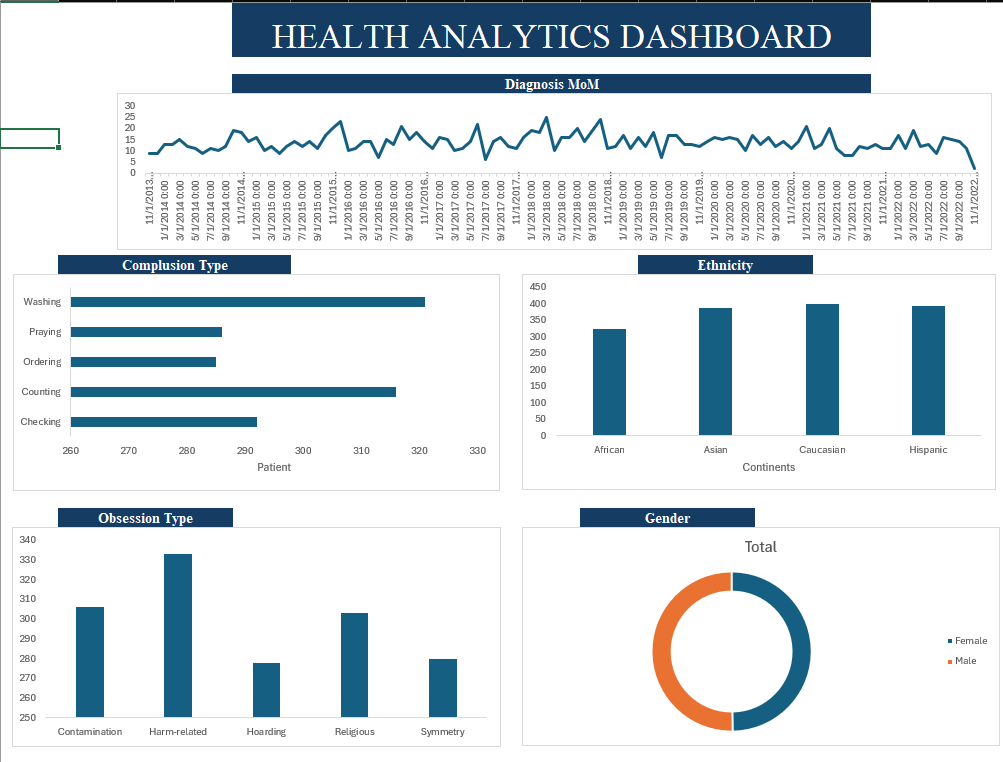

This screenshot's page, from the dashboard's own definition file:
{"tool":"powerbi","page":{"name":"Page 1","canvas":[1280,720],"ordinal":0},"visuals":[{"type":"textbox","box":[9.7,0,1270.3,51.6],"z":0},{"type":"lineChart","fields":{"Y2":["Sum(Diafnosed wit OCD.patient_count)"],"Category":["Diafnosed wit OCD.month.Variation.Date Hierarchy.Year","Diafnosed wit OCD.month.Variation.Date Hierarchy.Quarter","Diafnosed wit OCD.month.Variation.Date Hierarchy.Month","Diafnosed wit OCD.month.Variation.Date Hierarchy.Day"]},"box":[4.9,51.6,1270.3,149.8],"z":1000},{"type":"donutChart","fields":{"Category":["Gender.Gender"],"Y":["Sum(Gender.patient_count)"]},"box":[6.8,268.4,495.1,284],"z":1001},{"type":"clusteredBarChart","fields":{"Category":["Ethnicity.Ethnicity"],"Y":["Sum(Ethnicity.patient_count)"],"Series":["Ethnicity.patient_count"]},"box":[501.9,269.4,773.3,283],"z":1002},{"type":"columnChart","fields":{"Category":["Comp_type.Compulsion Type"],"Y":["Sum(Comp_type.patient_count)"]},"box":[4.9,552.5,635.1,167.3],"z":1003},{"type":"lineChart","title":"Obsession_count against Avg_Obs_Score ","fields":{"Category":["Obs type.Obsession Type"],"Y":["Sum(Obs type.patient_count)","Sum(Obs type.obs_score)"]},"box":[640,552.5,635.1,167.3],"z":1004}]}

Visuals, with their boxes on the page's 1280x720 design canvas (x1, y1, x2, y2). These are canvas units, not pixel positions in the 1003x762 screenshot, which may show the page scaled, cropped or inside an application window:
textbox: BBox(10, 0, 1280, 52)
lineChart - Sum(Diafnosed wit OCD.patient_count) x Diafnosed wit OCD.month.Variation.Date Hierarchy.Year: BBox(5, 52, 1275, 201)
donutChart - Gender.Gender x Sum(Gender.patient_count): BBox(7, 268, 502, 552)
clusteredBarChart - Ethnicity.Ethnicity x Sum(Ethnicity.patient_count): BBox(502, 269, 1275, 552)
columnChart - Comp_type.Compulsion Type x Sum(Comp_type.patient_count): BBox(5, 552, 640, 720)
"Obsession_count against Avg_Obs_Score " lineChart: BBox(640, 552, 1275, 720)
